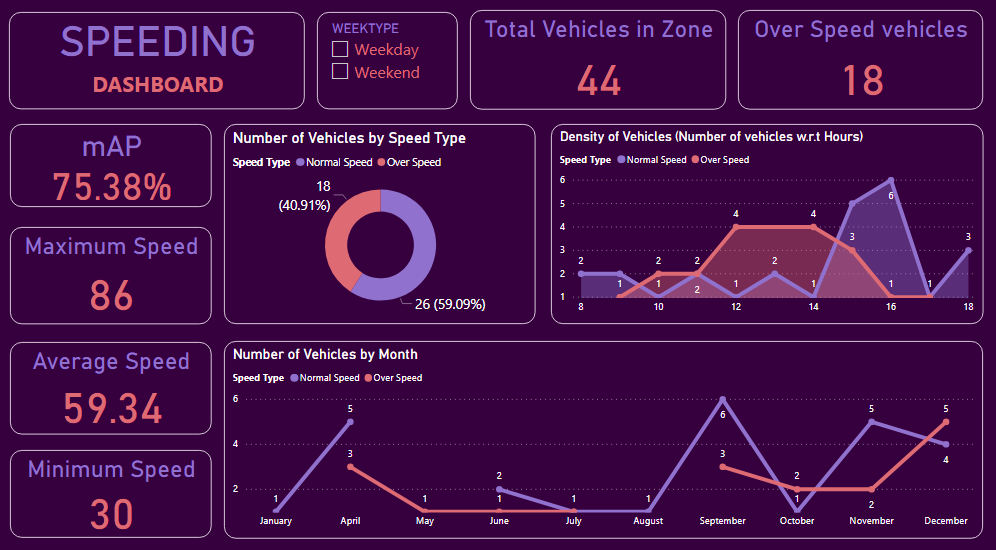

What the dashboard file says about the page in this screenshot:
{"tool":"powerbi","page":{"name":"Speeding","canvas":[1280,720],"ordinal":3},"visuals":[{"type":"card","title":"Average Speed","fields":{"Values":["Avg(SPEED.Speed)"]},"box":[23.7,445.9,254.8,117],"z":0},{"type":"card","title":"Maximum Speed","fields":{"Values":["Max(SPEED.Speed)"]},"box":[23.7,300.7,254.8,123],"z":1000},{"type":"card","title":"Minimum Speed","fields":{"Values":["Min(SPEED.Speed)"]},"box":[23.7,583.7,254.8,111.1],"z":2000},{"type":"card","title":"Total Vehicles in Zone","fields":{"Values":["CountNonNull(SPEED.Vehicle I.D)"]},"box":[605.9,26.7,324.4,125.9],"z":3000},{"type":"card","title":"mAP","fields":{"Values":["Avg(SPEED.Precision)"]},"box":[23.7,170.4,254.8,105.2],"z":4000},{"type":"textbox","title":"SPEEDING","box":[22.8,29.1,374.4,122.7],"z":5000},{"type":"card","title":"Over Speed vehicles","fields":{"Values":["CountNonNull(SPEED.Speed Type)"]},"box":[945.2,26.7,309.6,125.9],"z":5001},{"type":"slicer","fields":{"Values":["SPEED.WEEKTYPE"]},"box":[411.9,29.6,177.8,123],"z":5002},{"type":"donutChart","title":"Number of Vehicles by Speed Type","fields":{"Category":["SPEED.Speed Type"],"Y":["CountNonNull(SPEED.Vehicle I.D)"]},"box":[294.8,170.4,394.1,253.3],"z":5003},{"type":"areaChart","title":"Density of Vehicles (Number of vehicles w.r.t Hours)","fields":{"Series":["SPEED.Speed Type"],"Y":["CountNonNull(SPEED.Vehicle I.D)"],"Category":["SPEED.Hr"]},"box":[708.1,170.4,546.7,253.3],"z":5004},{"type":"lineChart","title":"Number of Vehicles by Month","fields":{"Series":["SPEED.Speed Type"],"Y":["CountNonNull(SPEED.Vehicle I.D)"],"Category":["SPEED.Date.Variation.Date Hierarchy.Month"]},"box":[295,445.1,960,250.3],"z":5005}]}

Visuals, with their boxes in screenshot pixels (x1, y1, x2, y2), scaled from the page's 1280x720 canvas onto the 996x550 screenshot:
"Average Speed" card: x1=18 y1=341 x2=217 y2=430
"Maximum Speed" card: x1=18 y1=230 x2=217 y2=324
"Minimum Speed" card: x1=18 y1=446 x2=217 y2=531
"Total Vehicles in Zone" card: x1=471 y1=20 x2=724 y2=117
"mAP" card: x1=18 y1=130 x2=217 y2=211
"SPEEDING" textbox: x1=18 y1=22 x2=309 y2=116
"Over Speed vehicles" card: x1=735 y1=20 x2=976 y2=117
slicer - SPEED.WEEKTYPE: x1=321 y1=23 x2=459 y2=117
"Number of Vehicles by Speed Type" donutChart: x1=229 y1=130 x2=536 y2=324
"Density of Vehicles (Number of vehicles w.r.t Hours)" areaChart: x1=551 y1=130 x2=976 y2=324
"Number of Vehicles by Month" lineChart: x1=230 y1=340 x2=977 y2=531
